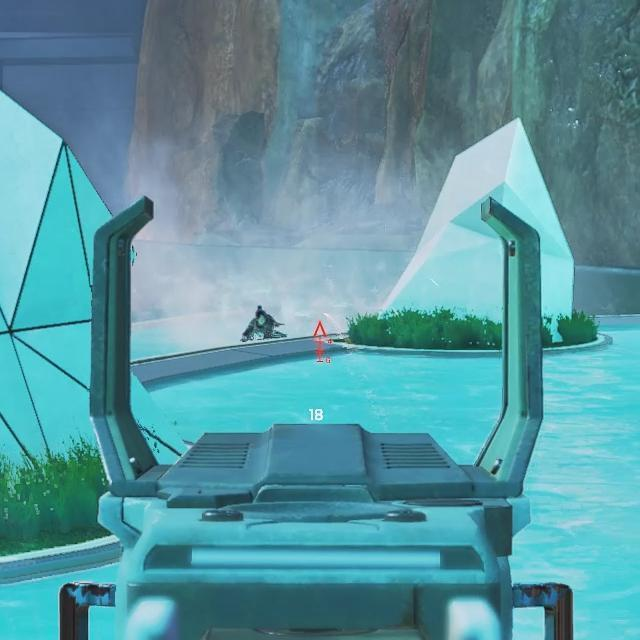avatar: (240, 303, 288, 343)
